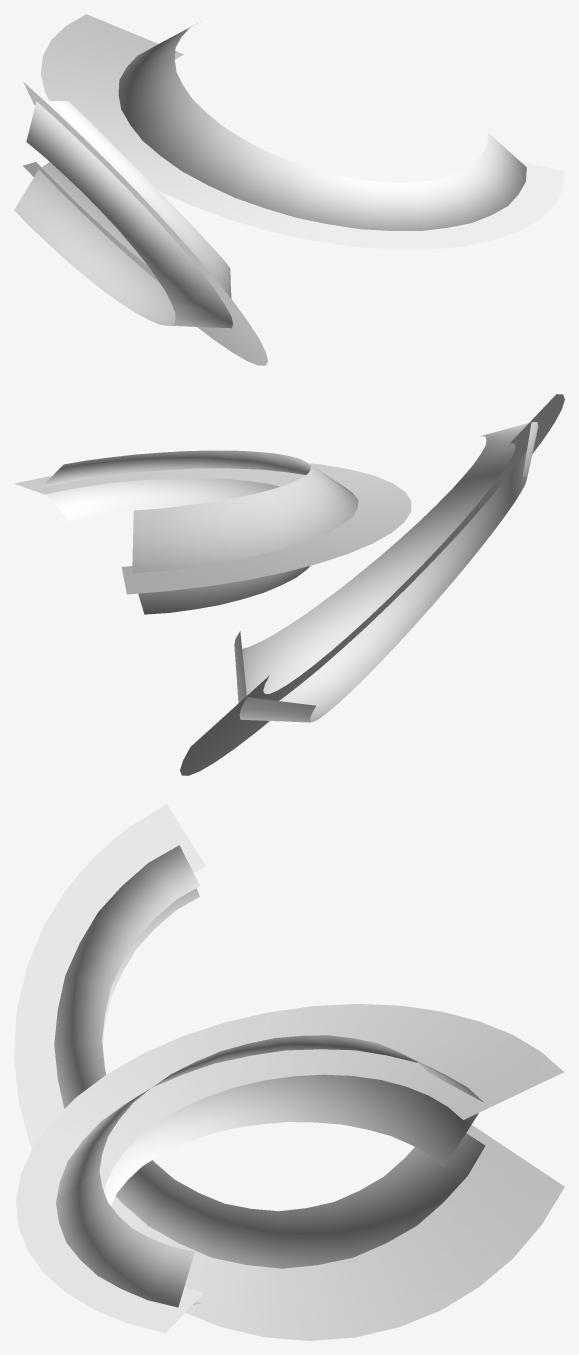
The model's file is eff_enem_MA_Duon_Yokoitimonji_Zash1_M.obj.
3 views of the same model, one above another, from view 1: azimuth 30°, elevation 25°; view 2: azimuth 150°, elevation 25°; view 3: azimuth 270°, elevation 25° (orthographic). The views are drawn at different scales.
Visible parts, largest first — view 1: polygon2, polygon0, polygon3, polygon1; view 2: polygon2, polygon0, polygon3, polygon1; view 3: polygon1, polygon3, polygon0, polygon2.
Boxes of the visible parts, x1,y1,x2,y2 form: polygon2: (118, 24, 526, 230); polygon0: (14, 101, 232, 328); polygon3: (40, 14, 564, 249); polygon1: (23, 82, 267, 365); polygon2: (41, 450, 358, 614); polygon0: (234, 422, 538, 722); polygon3: (14, 463, 411, 594); polygon1: (180, 394, 564, 775); polygon1: (14, 804, 564, 1340); polygon3: (16, 1004, 563, 1333); polygon0: (54, 845, 485, 1268); polygon2: (56, 1035, 483, 1307).
Size of the model in its own units: 33.46 by 21.74 by 27.07.
Materials: 2 (2 with a texture image).
